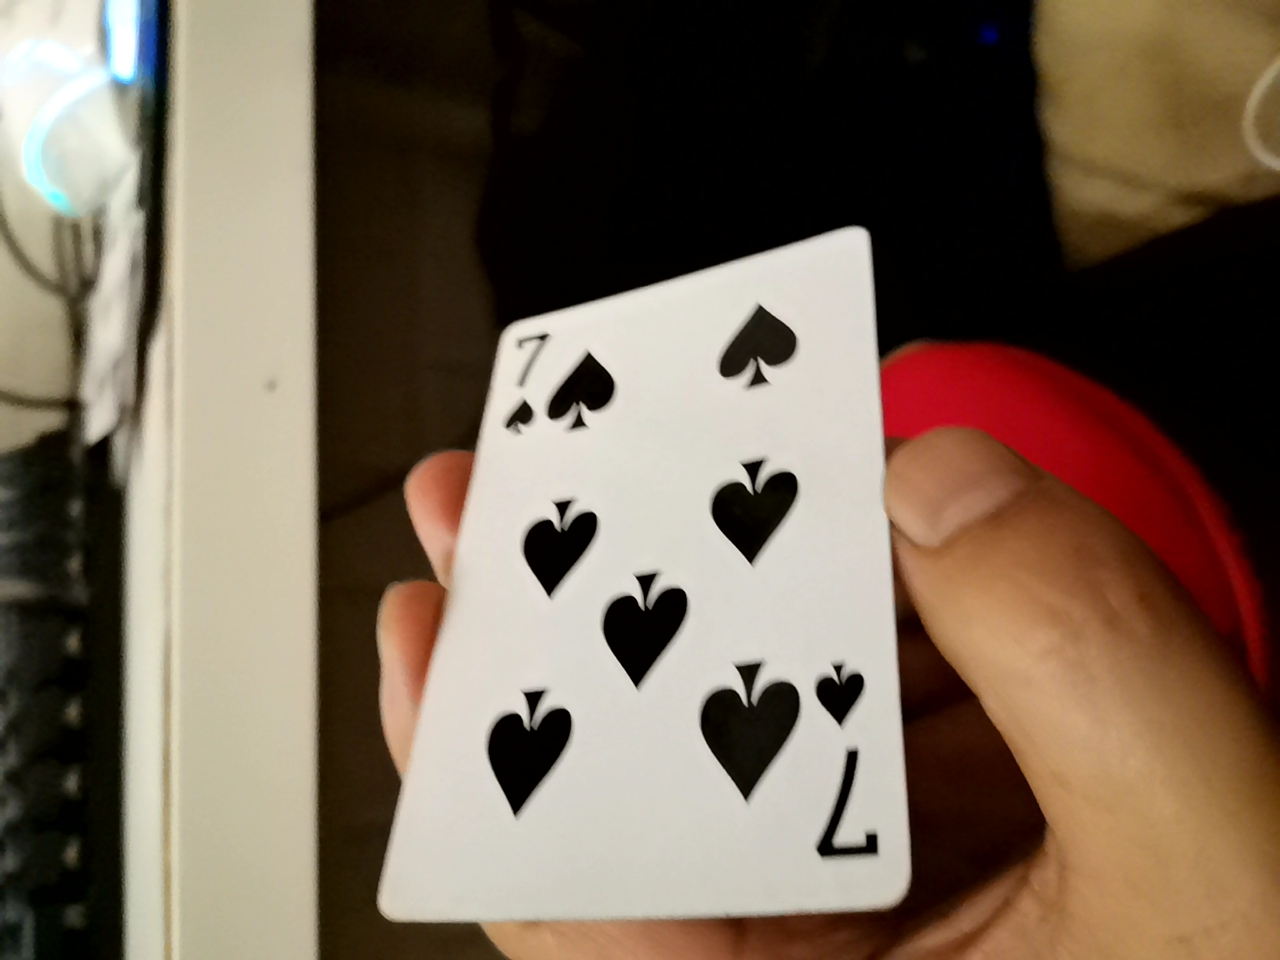ht 7: (405, 210, 937, 957)
